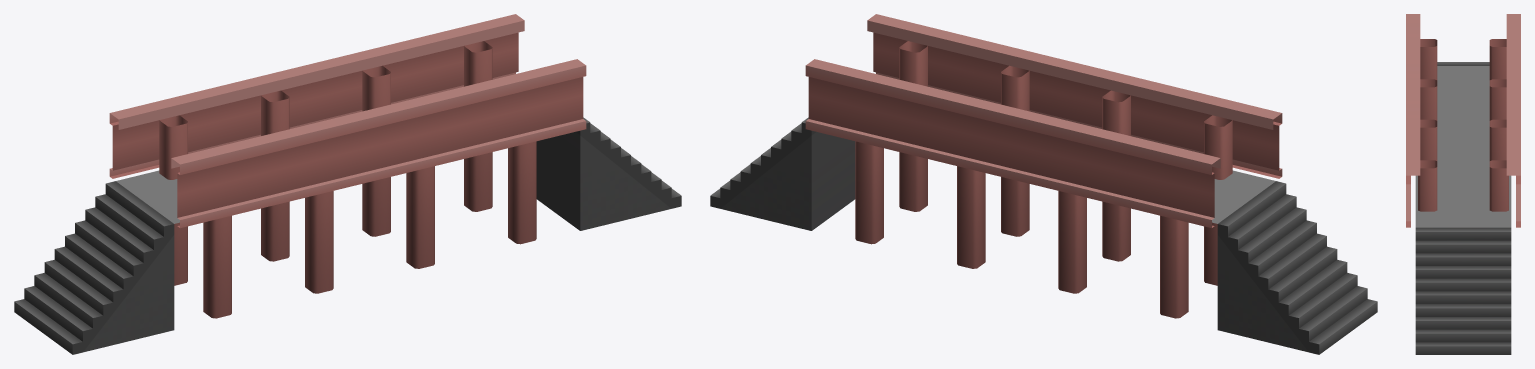
The model's file is elevated-walkway.glb.
The picture shows the model from 3 angles, left to right: view 1: azimuth 30°, elevation 25°; view 2: azimuth 150°, elevation 25°; view 3: azimuth 270°, elevation 25°; orthographic projection. The views are drawn at different scales.
Visible parts, largest first — view 1: Part_13_IndStairsWideFull_StairsWideFull, Part_14_IndStairsWideFull_StairsWideFull, Part_15_IndRoofTrimBStraightFull_RoofTrimBStraightFull, Part_18_IndRoofTrimBStraightFull_RoofTrimBStraightFull, Part_16_IndRoofTrimBStraightFull_RoofTrimBStraightFull, Part_17_IndRoofTrimBStraightFull_RoofTrimBStraightFull, Part_19_IndRoofTrimBStraightFull_RoofTrimBStraightFull, Part_21_IndRoofTrimBStraightFull_RoofTrimBStraightFull, Part_22_IndRoofTrimBStraightFull_RoofTrimBStraightFull, Part_20_IndRoofTrimBStraightFull_RoofTrimBStraightFull, Part_03_IndColumnFree_ColumnFree, Part_07_IndColumnFree_ColumnFree (+7 smaller); view 2: Part_13_IndStairsWideFull_StairsWideFull, Part_14_IndStairsWideFull_StairsWideFull, Part_19_IndRoofTrimBStraightFull_RoofTrimBStraightFull, Part_22_IndRoofTrimBStraightFull_RoofTrimBStraightFull, Part_20_IndRoofTrimBStraightFull_RoofTrimBStraightFull, Part_21_IndRoofTrimBStraightFull_RoofTrimBStraightFull, Part_15_IndRoofTrimBStraightFull_RoofTrimBStraightFull, Part_17_IndRoofTrimBStraightFull_RoofTrimBStraightFull, Part_18_IndRoofTrimBStraightFull_RoofTrimBStraightFull, Part_16_IndRoofTrimBStraightFull_RoofTrimBStraightFull, Part_04_IndColumnFree_ColumnFree, Part_08_IndColumnFree_ColumnFree (+7 smaller); view 3: Part_14_IndStairsWideFull_StairsWideFull, Part_12_IndFloorGreyPlatformFull_FloorGreyPlatformFull, Part_11_IndFloorGreyPlatformFull_FloorGreyPlatformFull, Part_09_IndFloorGreyPlatformFull_FloorGreyPlatformFull, Part_10_IndFloorGreyPlatformFull_FloorGreyPlatformFull, Part_07_IndColumnFree_ColumnFree, Part_08_IndColumnFree_ColumnFree, Part_18_IndRoofTrimBStraightFull_RoofTrimBStraightFull, Part_22_IndRoofTrimBStraightFull_RoofTrimBStraightFull, Part_05_IndColumnFree_ColumnFree, Part_06_IndColumnFree_ColumnFree, Part_03_IndColumnFree_ColumnFree (+10 smaller).
Part boxes in pixels (bbox=[...]): Part_13_IndStairsWideFull_StairsWideFull: bbox=[14, 181, 174, 354]; Part_14_IndStairsWideFull_StairsWideFull: bbox=[536, 117, 681, 230]; Part_15_IndRoofTrimBStraightFull_RoofTrimBStraightFull: bbox=[171, 133, 281, 228]; Part_18_IndRoofTrimBStraightFull_RoofTrimBStraightFull: bbox=[476, 59, 586, 153]; Part_16_IndRoofTrimBStraightFull_RoofTrimBStraightFull: bbox=[273, 108, 382, 203]; Part_17_IndRoofTrimBStraightFull_RoofTrimBStraightFull: bbox=[374, 84, 484, 178]; Part_19_IndRoofTrimBStraightFull_RoofTrimBStraightFull: bbox=[109, 88, 219, 178]; Part_21_IndRoofTrimBStraightFull_RoofTrimBStraightFull: bbox=[313, 39, 422, 123]; Part_22_IndRoofTrimBStraightFull_RoofTrimBStraightFull: bbox=[414, 14, 524, 98]; Part_20_IndRoofTrimBStraightFull_RoofTrimBStraightFull: bbox=[211, 63, 321, 148]; Part_03_IndColumnFree_ColumnFree: bbox=[305, 191, 333, 293]; Part_07_IndColumnFree_ColumnFree: bbox=[508, 141, 536, 244]; Part_13_IndStairsWideFull_StairsWideFull: bbox=[1217, 181, 1377, 354]; Part_14_IndStairsWideFull_StairsWideFull: bbox=[710, 117, 855, 230]; Part_19_IndRoofTrimBStraightFull_RoofTrimBStraightFull: bbox=[1110, 133, 1220, 228]; Part_22_IndRoofTrimBStraightFull_RoofTrimBStraightFull: bbox=[805, 59, 915, 153]; Part_20_IndRoofTrimBStraightFull_RoofTrimBStraightFull: bbox=[1009, 108, 1118, 203]; Part_21_IndRoofTrimBStraightFull_RoofTrimBStraightFull: bbox=[907, 84, 1017, 178]; Part_15_IndRoofTrimBStraightFull_RoofTrimBStraightFull: bbox=[1172, 88, 1282, 178]; Part_17_IndRoofTrimBStraightFull_RoofTrimBStraightFull: bbox=[969, 39, 1078, 123]; Part_18_IndRoofTrimBStraightFull_RoofTrimBStraightFull: bbox=[867, 14, 977, 98]; Part_16_IndRoofTrimBStraightFull_RoofTrimBStraightFull: bbox=[1070, 63, 1180, 148]; Part_04_IndColumnFree_ColumnFree: bbox=[1058, 191, 1086, 293]; Part_08_IndColumnFree_ColumnFree: bbox=[855, 141, 883, 244]; Part_14_IndStairsWideFull_StairsWideFull: bbox=[1415, 227, 1511, 354]; Part_12_IndFloorGreyPlatformFull_FloorGreyPlatformFull: bbox=[1415, 187, 1511, 227]; Part_11_IndFloorGreyPlatformFull_FloorGreyPlatformFull: bbox=[1415, 147, 1511, 187]; Part_09_IndFloorGreyPlatformFull_FloorGreyPlatformFull: bbox=[1437, 66, 1489, 106]; Part_10_IndFloorGreyPlatformFull_FloorGreyPlatformFull: bbox=[1437, 106, 1489, 146]; Part_07_IndColumnFree_ColumnFree: bbox=[1418, 160, 1437, 211]; Part_08_IndColumnFree_ColumnFree: bbox=[1489, 160, 1508, 211]; Part_18_IndRoofTrimBStraightFull_RoofTrimBStraightFull: bbox=[1406, 135, 1420, 227]; Part_22_IndRoofTrimBStraightFull_RoofTrimBStraightFull: bbox=[1506, 135, 1520, 227]; Part_05_IndColumnFree_ColumnFree: bbox=[1420, 119, 1437, 160]; Part_06_IndColumnFree_ColumnFree: bbox=[1489, 119, 1506, 160]; Part_03_IndColumnFree_ColumnFree: bbox=[1420, 79, 1437, 120].
Bounding box in the file's own units: 12 × 3.2 × 2.4.
22 materials, 22 textured.
